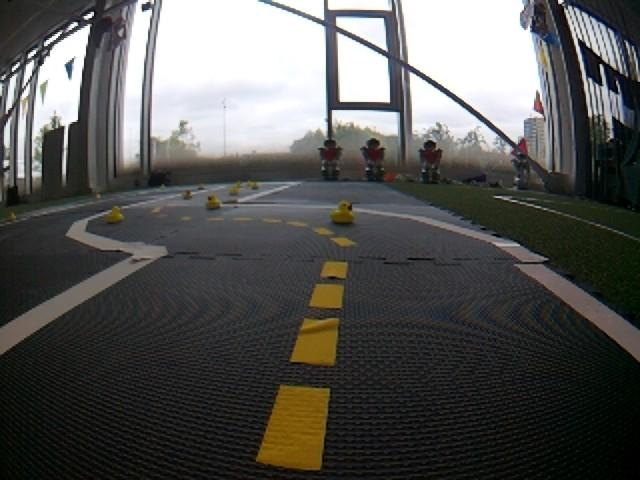Duckies: (330, 200, 357, 224), (106, 206, 124, 221), (206, 193, 221, 208), (227, 187, 240, 194), (183, 189, 192, 199), (9, 212, 16, 220), (235, 179, 242, 186), (159, 184, 166, 190), (252, 182, 260, 187), (198, 183, 204, 189), (95, 194, 100, 198)
